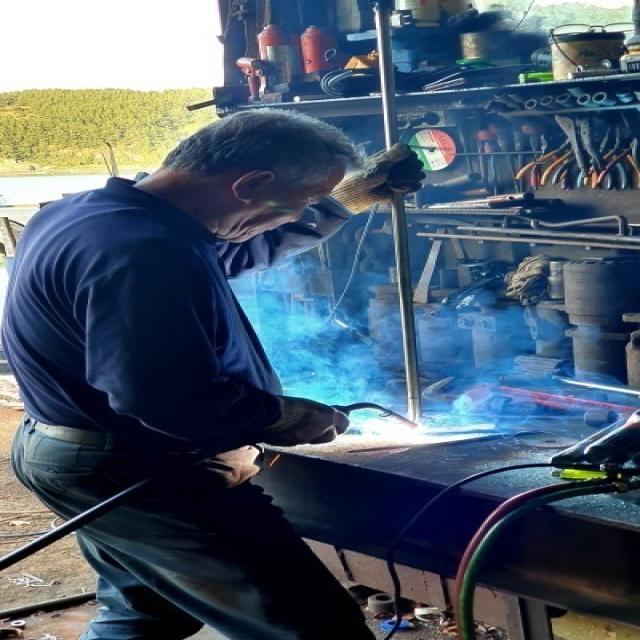welding: (371, 420, 428, 443)
